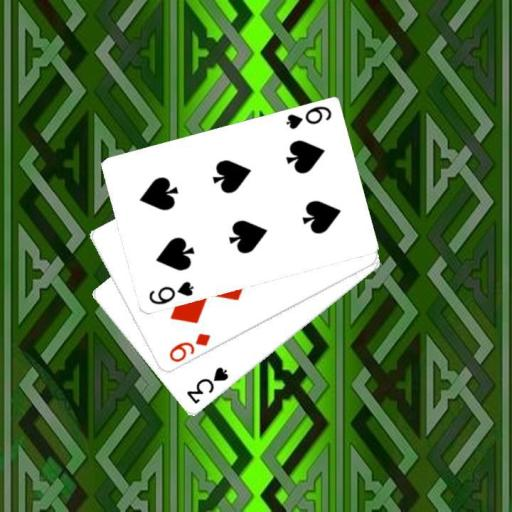3S: (184, 363, 231, 406)
6S: (282, 103, 333, 132), (145, 279, 196, 306)
9D: (166, 330, 212, 365)
